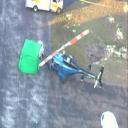helicopter: (37, 31, 108, 95)
